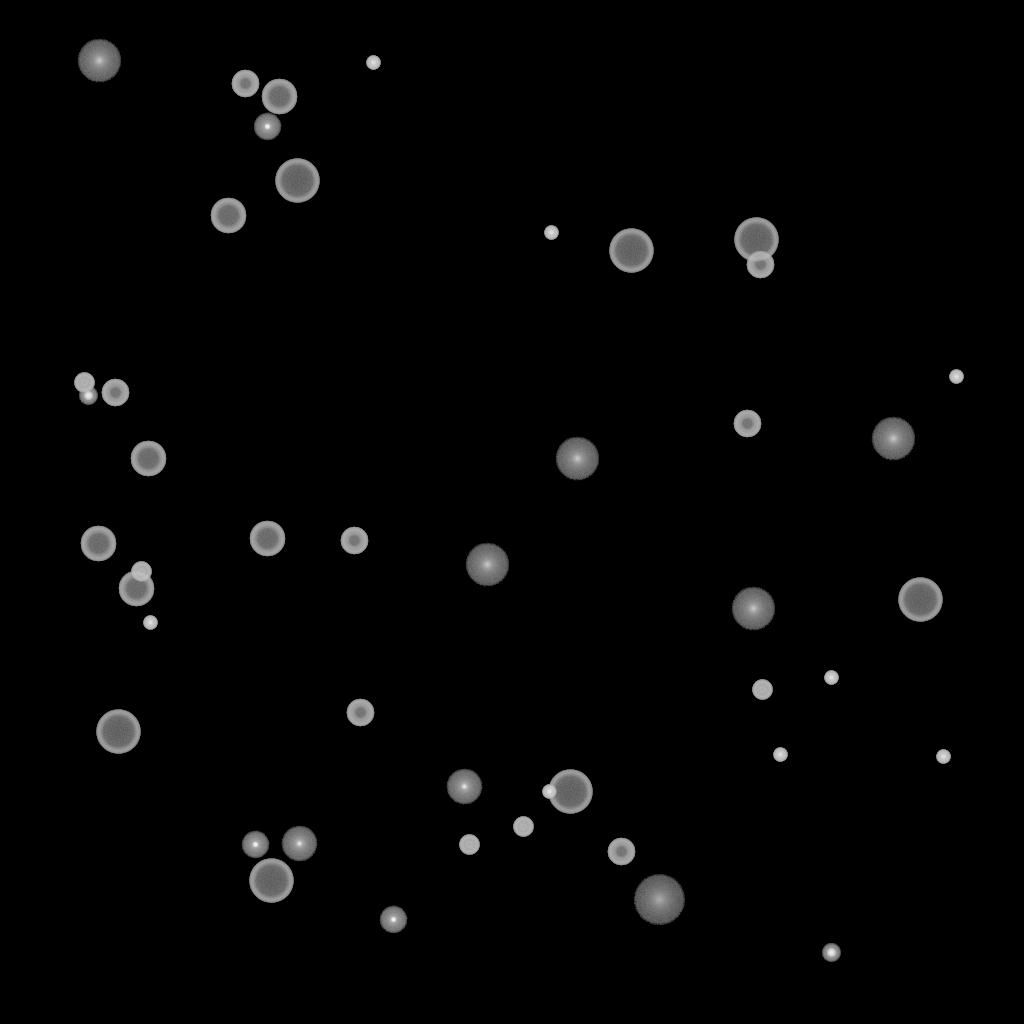depth:-10: (253, 113, 281, 141), (379, 906, 407, 934), (241, 831, 269, 859)
depth:-20: (822, 944, 840, 962), (79, 387, 97, 405)
depth:-30: (949, 370, 963, 384), (366, 56, 380, 70), (936, 750, 950, 764), (824, 671, 838, 685), (773, 748, 787, 762), (544, 226, 558, 240), (143, 616, 157, 630), (542, 785, 556, 799)
depth:-40: (131, 562, 151, 582), (513, 817, 533, 837), (74, 373, 94, 393), (752, 680, 772, 700), (459, 835, 479, 855)
depth:-50: (340, 527, 368, 555), (733, 410, 761, 438), (231, 70, 259, 98), (346, 699, 374, 727), (607, 838, 635, 866), (746, 251, 774, 279), (101, 379, 129, 407)
depth:-60: (261, 79, 297, 115), (249, 521, 285, 557), (210, 198, 246, 234), (130, 441, 166, 477), (80, 526, 116, 562), (118, 571, 154, 607)
depth:-70: (609, 229, 653, 273), (898, 578, 942, 622), (275, 159, 319, 203), (249, 859, 293, 903), (548, 770, 592, 814), (734, 218, 778, 262), (96, 710, 140, 754)
depth:0: (446, 769, 482, 805), (281, 826, 317, 862)
depth:10: (555, 437, 599, 481), (871, 417, 915, 461), (77, 39, 121, 83), (465, 543, 509, 587), (731, 587, 775, 631)
depth:20: (633, 875, 685, 925)
